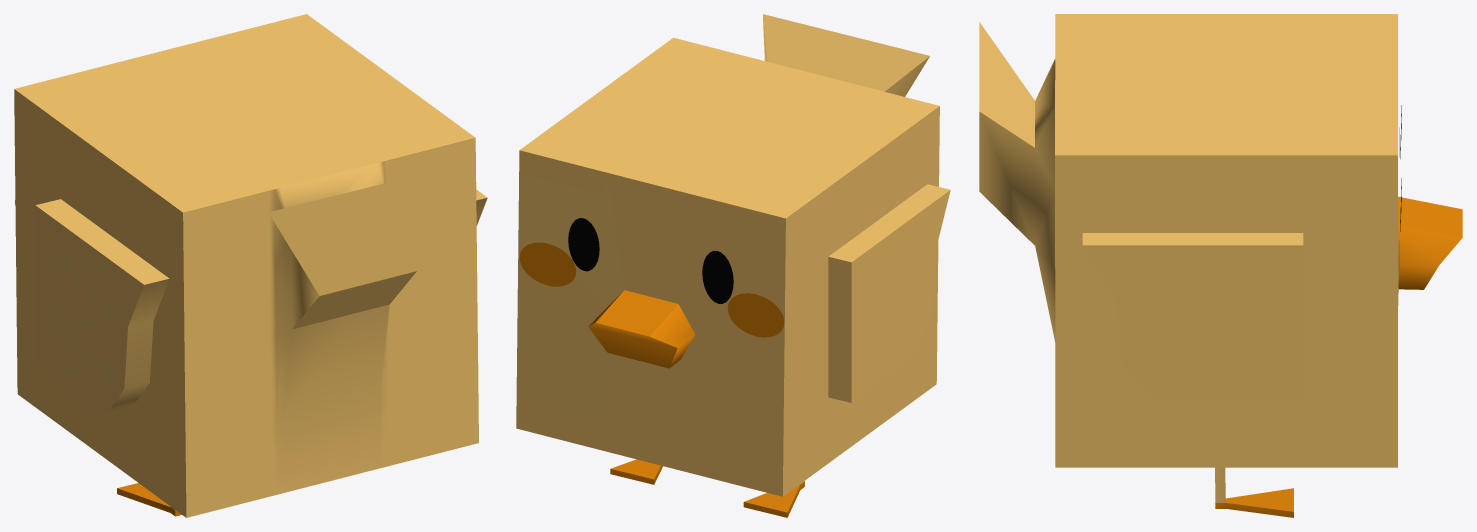
The model's file is Duckie Still.fbx.
3 renders of one model, left to right at view 1: azimuth 30°, elevation 25°; view 2: azimuth 150°, elevation 25°; view 3: azimuth 270°, elevation 25°, orthographic. The views are drawn at different scales.
Parts seen in each view (by area): view 1: Body, L_Wing, L_Leg; view 2: Body, L_Wing, L_Blush, R_Blush, R_Eye, L_Eye, L_Leg, R_Leg; view 3: Body, R_Wing, R_Leg.
Part boxes in pixels (left/top/right/bottom): Body: left=14, top=14, right=478, bottom=517; L_Wing: left=35, top=199, right=169, bottom=411; L_Leg: left=117, top=483, right=181, bottom=516; Body: left=516, top=14, right=939, bottom=496; L_Wing: left=828, top=184, right=950, bottom=402; L_Blush: left=727, top=293, right=784, bottom=337; R_Blush: left=519, top=242, right=576, bottom=286; R_Eye: left=568, top=218, right=599, bottom=271; L_Eye: left=702, top=250, right=733, bottom=303; L_Leg: left=743, top=481, right=804, bottom=517; R_Leg: left=610, top=459, right=662, bottom=484; Body: left=979, top=14, right=1462, bottom=467; R_Wing: left=1082, top=233, right=1303, bottom=401; R_Leg: left=1215, top=467, right=1293, bottom=517.
Bounding box in the file's own units: 1.17 × 1.29 × 1.41.
